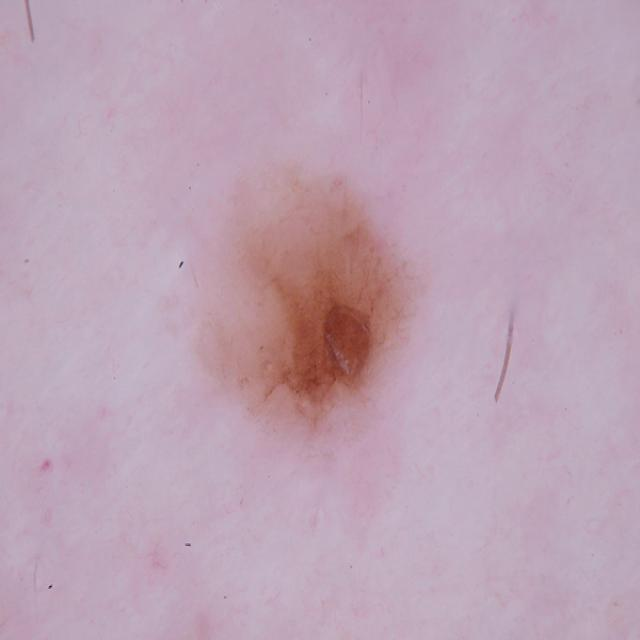Skin-Cancer Pigmented benign keratosis: (125, 29, 558, 563)
